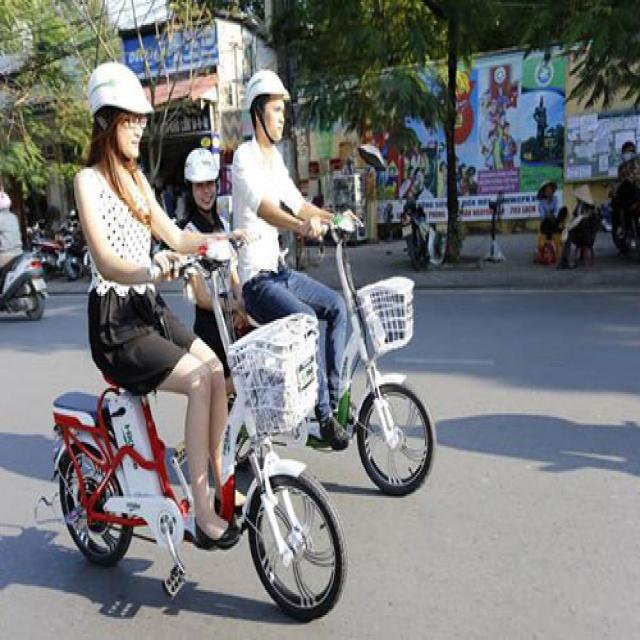helmet: (89, 60, 155, 116), (245, 68, 291, 110), (185, 147, 221, 183)
